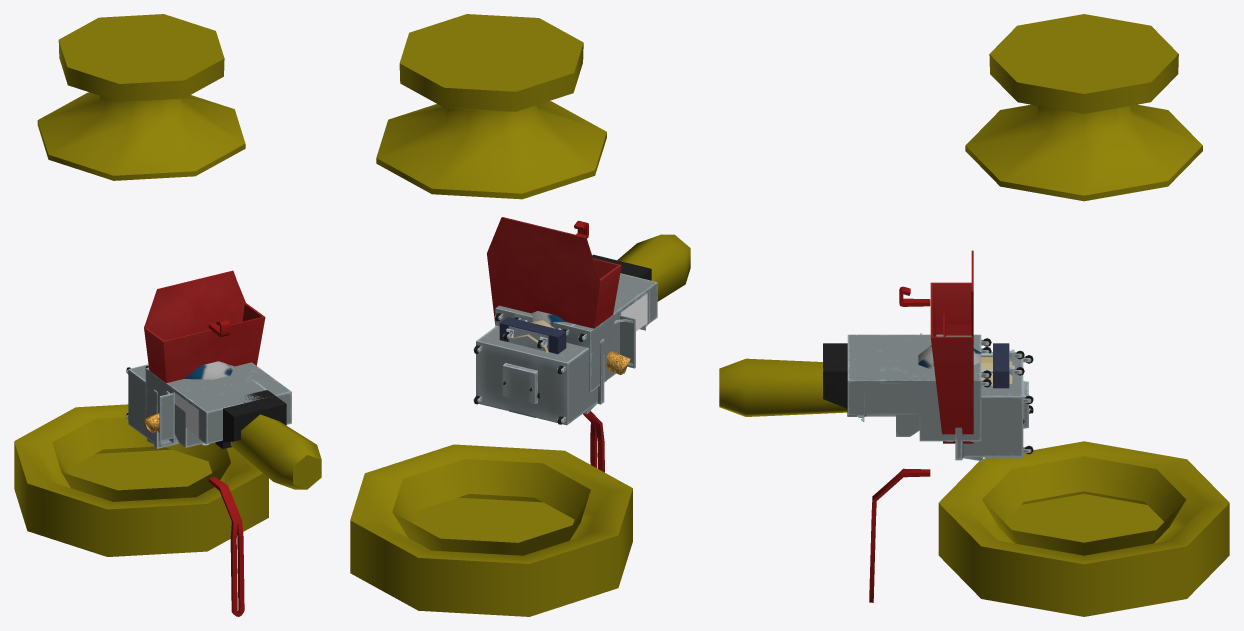
Rendered from deep-fryer-d0e36e.glb.
3 views of the same model, side by side, from view 1: azimuth 30°, elevation 25°; view 2: azimuth 150°, elevation 25°; view 3: azimuth 270°, elevation 25° (orthographic). The views are drawn at different scales.
Parts seen in each view (by area): view 1: PropMesh; view 2: PropMesh; view 3: PropMesh.
Boxes of the visible parts, <box> form: PropMesh: <box>14,14,321,616</box>; PropMesh: <box>350,14,690,616</box>; PropMesh: <box>719,14,1229,616</box>.
Bounding box in the file's own units: 1.06 × 2.2 × 1.86.
8 materials, 7 textured.
